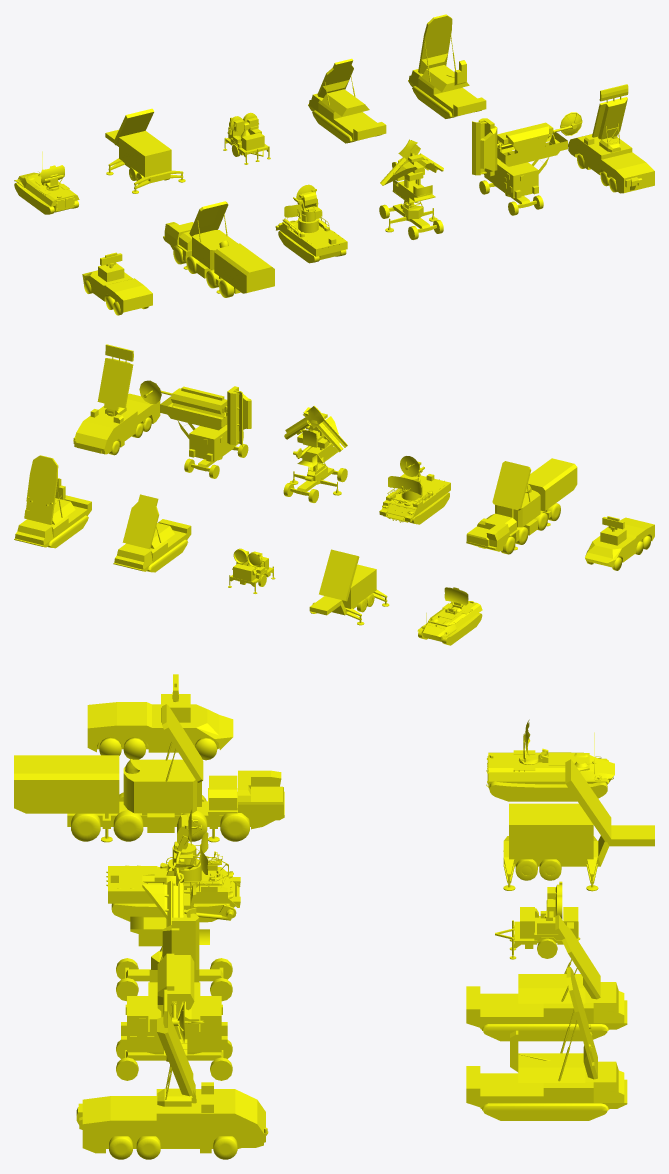
The picture shows the model from 3 angles, top to bottom: view 1: azimuth 30°, elevation 25°; view 2: azimuth 150°, elevation 25°; view 3: azimuth 270°, elevation 25°; orthographic projection. The views are drawn at different scales.
Visible parts, largest first — view 1: FlapLid, SnowDriftE, radaraxis, hull, radar, radar.003, FM-90_Radar, StraightFlush, radar.002, GrillPan, GrillScreen, box (+9 smaller); view 2: FlapLid, SnowDriftE, radaraxis, radar.003, radar, FM-90_Radar, radar.002, hull, StraightFlush, GrillPan, box, GrillScreen (+8 smaller); view 3: FlapLid, SnowDriftE, GrillScreen, FM-90_Radar, GrillPan, radar, radar.002, DogEar, hull, StraightFlush, radaraxis, radar.003 (+8 smaller).
Boxes of the visible parts, x1,y1,x2,y2 form: FlapLid: (163, 222, 274, 297); SnowDriftE: (568, 134, 654, 193); radaraxis: (472, 112, 582, 176); hull: (483, 130, 567, 198); radar: (113, 108, 171, 177); radar.003: (418, 14, 469, 92); FM-90_Radar: (82, 263, 152, 315); StraightFlush: (275, 217, 347, 263); radar.002: (189, 201, 237, 269); GrillPan: (308, 93, 386, 143); GrillScreen: (408, 69, 486, 118); box: (380, 153, 443, 203); FlapLid: (466, 458, 577, 554); SnowDriftE: (73, 393, 160, 455); radaraxis: (139, 380, 251, 447); radar.003: (24, 455, 75, 524); radar: (319, 549, 376, 608); FM-90_Radar: (585, 517, 654, 570); radar.002: (492, 461, 540, 527); hull: (160, 396, 243, 461); StraightFlush: (379, 474, 450, 524); GrillPan: (113, 519, 191, 572); box: (284, 413, 347, 467); GrillScreen: (14, 495, 91, 548); FlapLid: (14, 755, 284, 842); SnowDriftE: (76, 1082, 268, 1159); GrillScreen: (466, 1061, 627, 1120); FM-90_Radar: (87, 694, 233, 760); GrillPan: (466, 982, 627, 1041); radar: (509, 759, 611, 859); radar.002: (123, 704, 203, 813); DogEar: (486, 732, 614, 801); hull: (121, 970, 227, 1056); StraightFlush: (106, 857, 240, 922); radaraxis: (157, 908, 203, 1042); radar.003: (510, 967, 597, 1082).
Bounding box in the file's own units: 5.3 × 0.8703 × 3.41.
